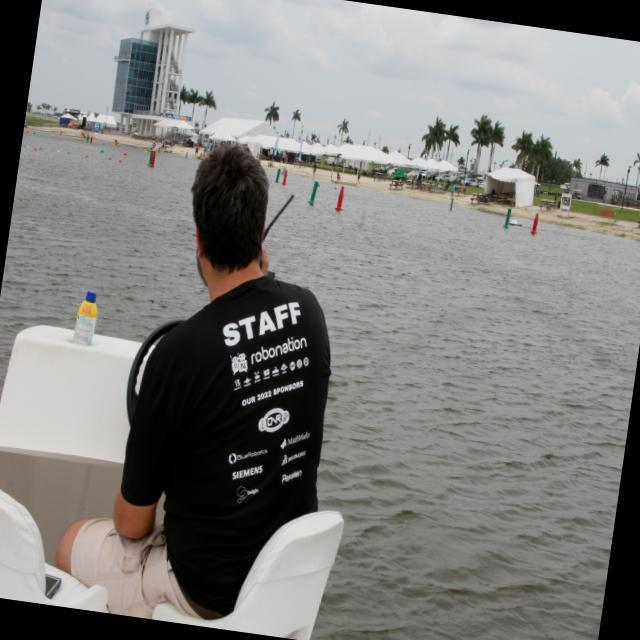buoy: (100, 148, 104, 154), (84, 154, 90, 158), (118, 159, 122, 163), (123, 152, 127, 156), (108, 156, 112, 160), (56, 150, 60, 154), (39, 146, 43, 150), (34, 146, 37, 150), (23, 144, 26, 148), (27, 145, 29, 149), (27, 129, 29, 133), (34, 132, 36, 135), (68, 152, 70, 154)
